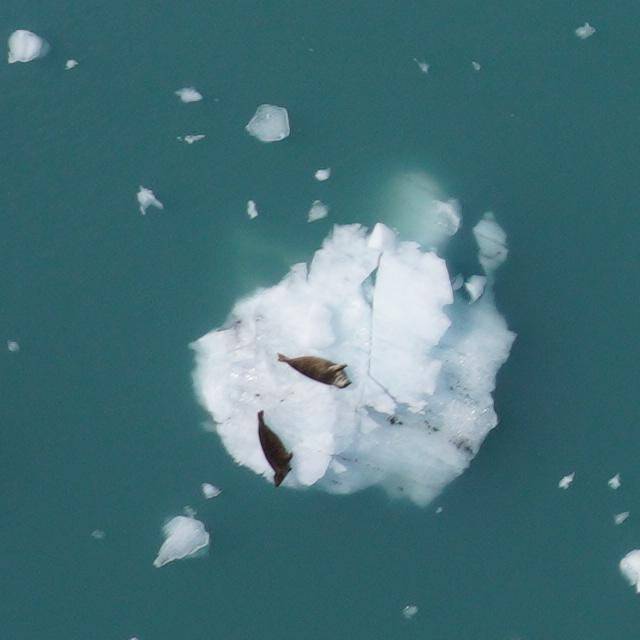seal: (249, 404, 302, 492), (274, 346, 357, 392)
